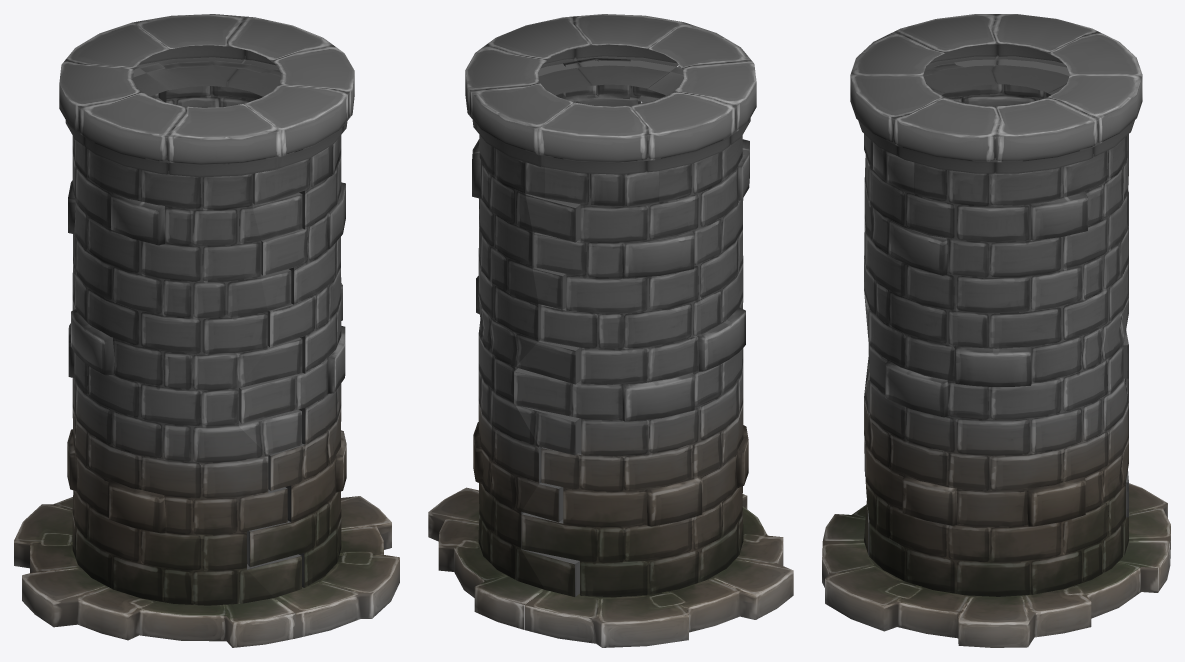
The model's file is BD_Pillar.fbx.
3 views of the same model, side by side, from view 1: azimuth 30°, elevation 25°; view 2: azimuth 150°, elevation 25°; view 3: azimuth 270°, elevation 25° (orthographic).
Parts seen in each view (by area): view 1: BD_Pillar; view 2: BD_Pillar; view 3: BD_Pillar.
Part boxes in pixels (x1=…): BD_Pillar: x1=14, y1=14, x2=399, y2=647; BD_Pillar: x1=428, y1=14, x2=793, y2=647; BD_Pillar: x1=822, y1=14, x2=1170, y2=647.
Bounding box in the file's own units: 3.68 × 5.13 × 3.31.
